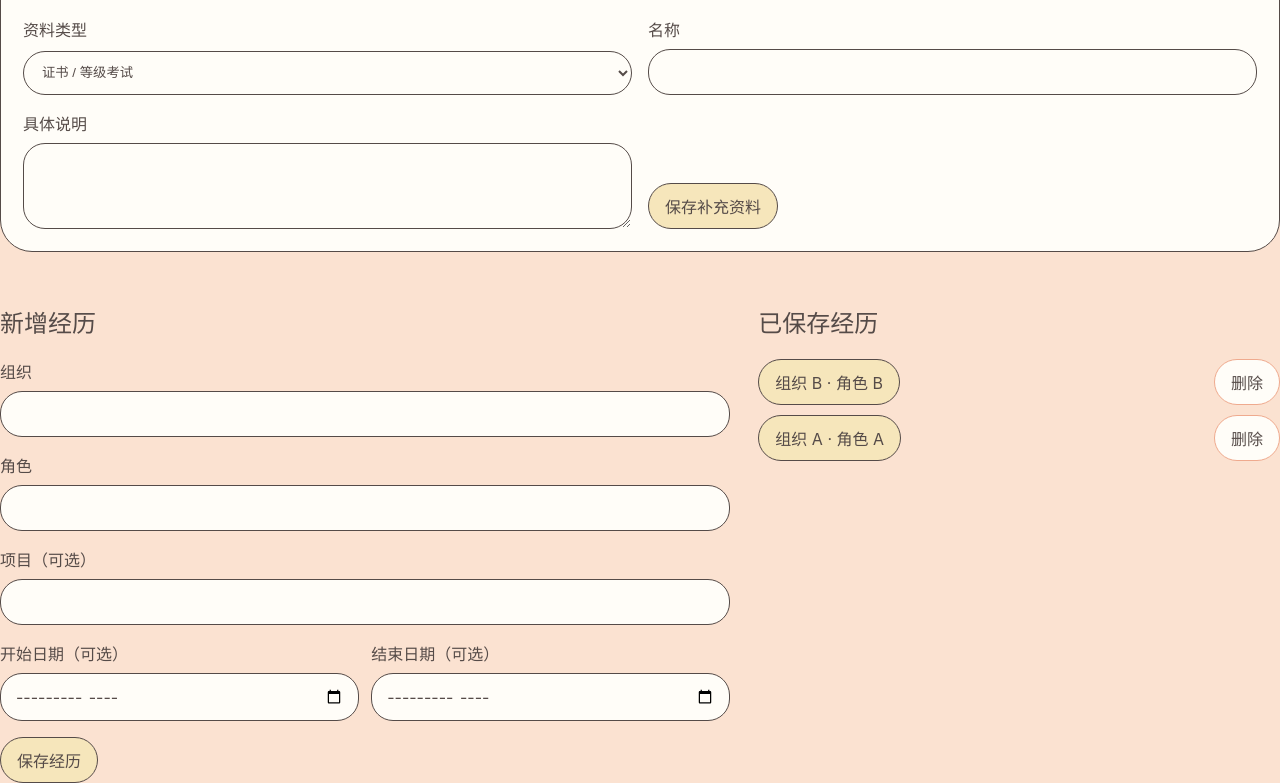
Test: ExperiencesView › keeps only the latest rapidly selected experience workspace
The width and height of the screenshot is (1280, 783).
(page scrolled)
Click the button "组织 A · 角色 A".
click(830, 438)  # box [758, 415, 901, 461]
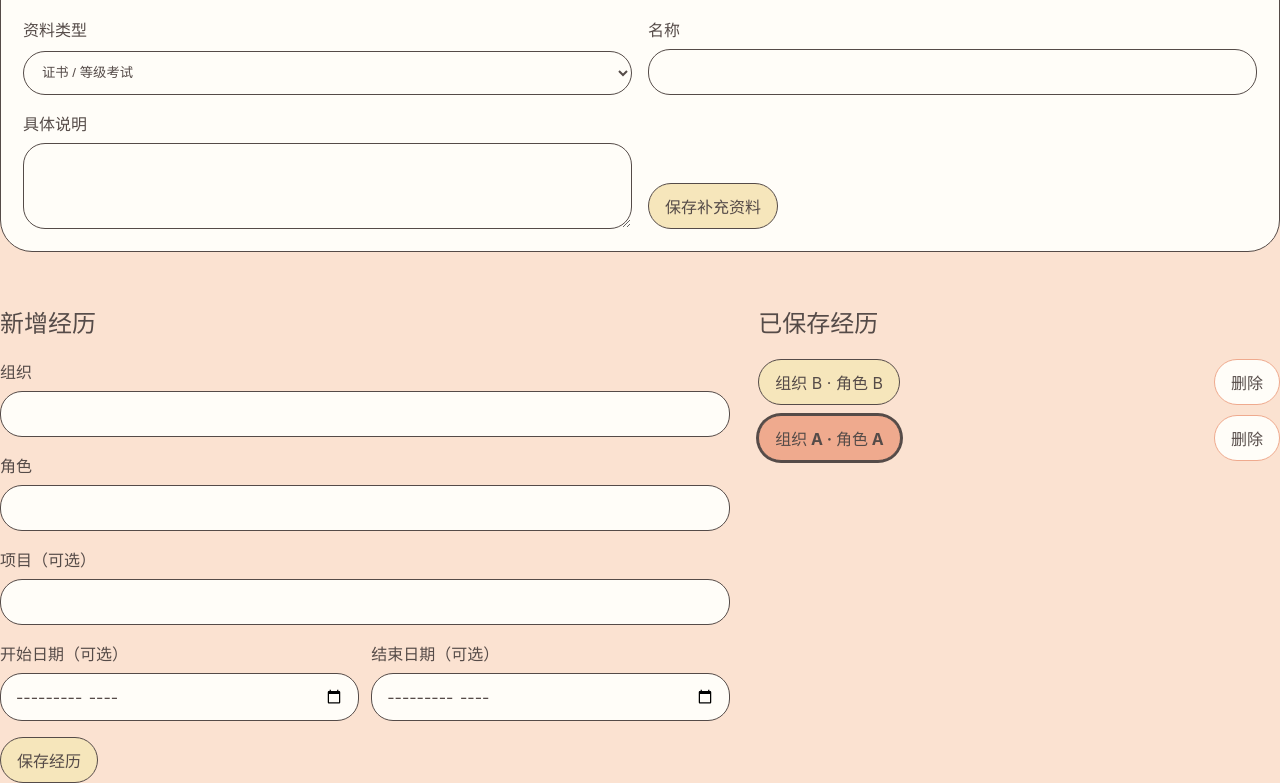
Click the button "组织 B · 角色 B".
click(829, 382)  # box [758, 359, 900, 405]
(page scrolled)
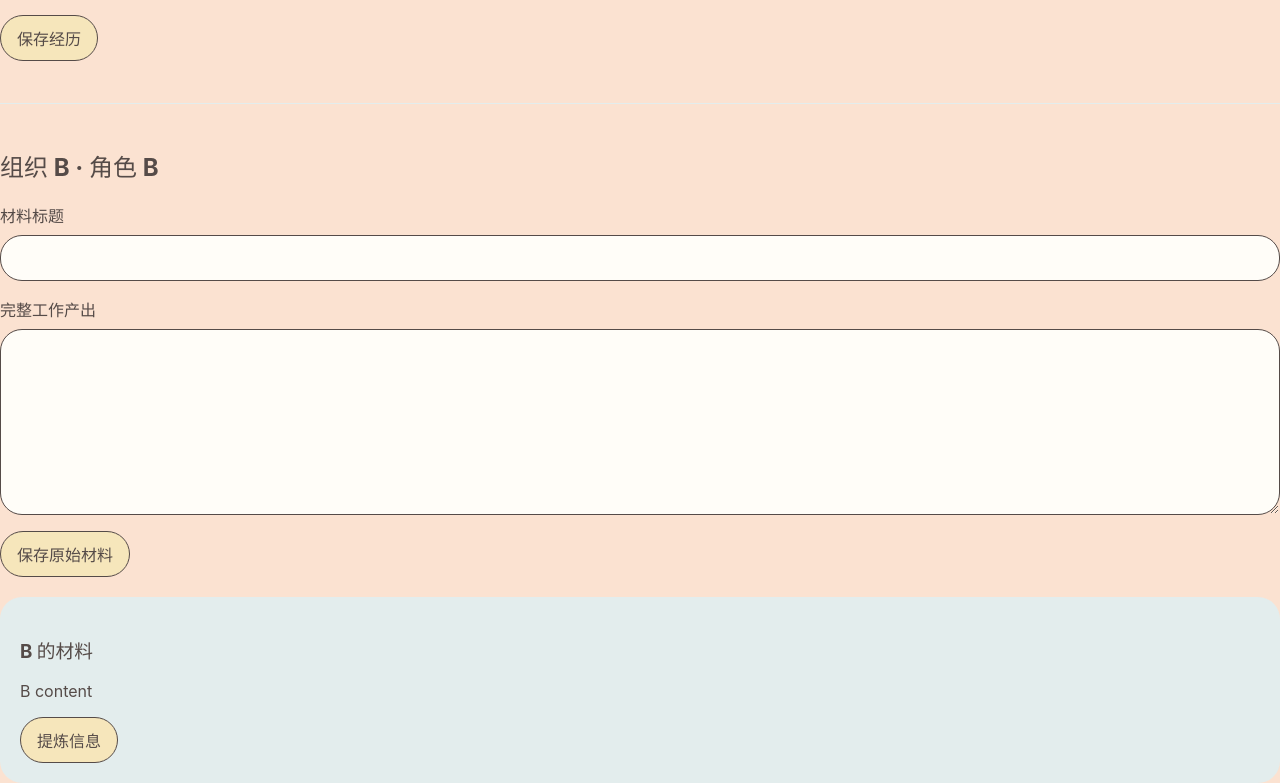
expect the heading "B 的材料" is shown: met, box [20, 640, 93, 662]
